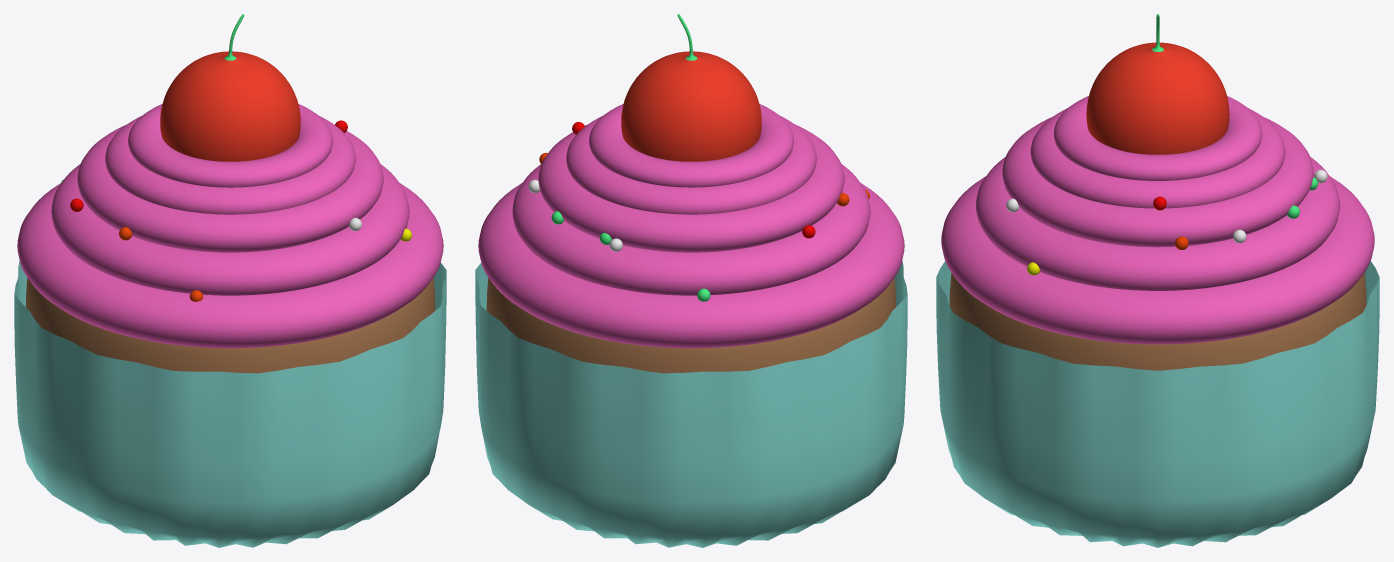
Rendered from coke.fbx.
3 views of the same model, side by side, from view 1: azimuth 30°, elevation 25°; view 2: azimuth 150°, elevation 25°; view 3: azimuth 270°, elevation 25° (orthographic).
Visible parts, largest first — view 1: Cylinder.008; view 2: Cylinder.008; view 3: Cylinder.008.
Boxes of the visible parts, <box> form: Cylinder.008: <box>14,14,446,547</box>; Cylinder.008: <box>475,14,907,547</box>; Cylinder.008: <box>936,14,1379,547</box>.
Size of the model in its own units: 0.5167 by 0.6224 by 0.5167.
